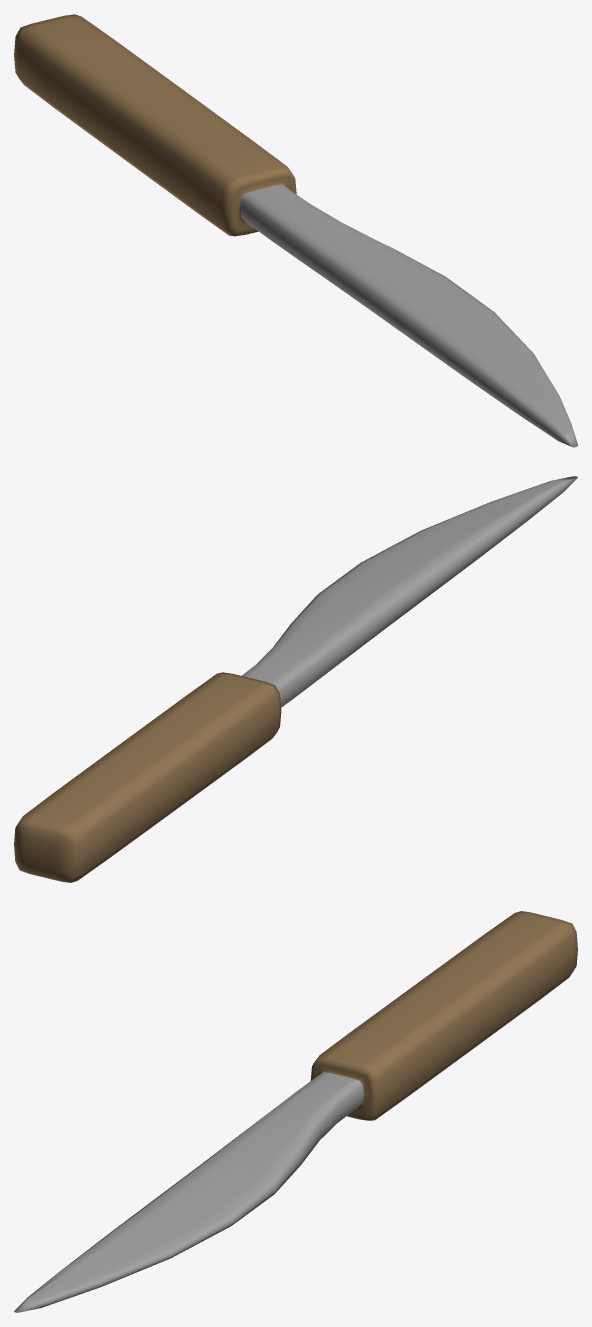
File: Cuchillo.fbx
3 renders of one model, top to bottom at view 1: azimuth 30°, elevation 25°; view 2: azimuth 150°, elevation 25°; view 3: azimuth 330°, elevation 25°, orthographic. The views are drawn at different scales.
Parts seen in each view (by area): view 1: Plane.001; view 2: Plane.001; view 3: Plane.001.
Part boxes in pixels (x1=…): Plane.001: x1=14, y1=14, x2=577, y2=447; Plane.001: x1=14, y1=476, x2=577, y2=882; Plane.001: x1=14, y1=911, x2=577, y2=1312.
Bounding box in the file's own units: 76.78 × 44.66 × 769.
